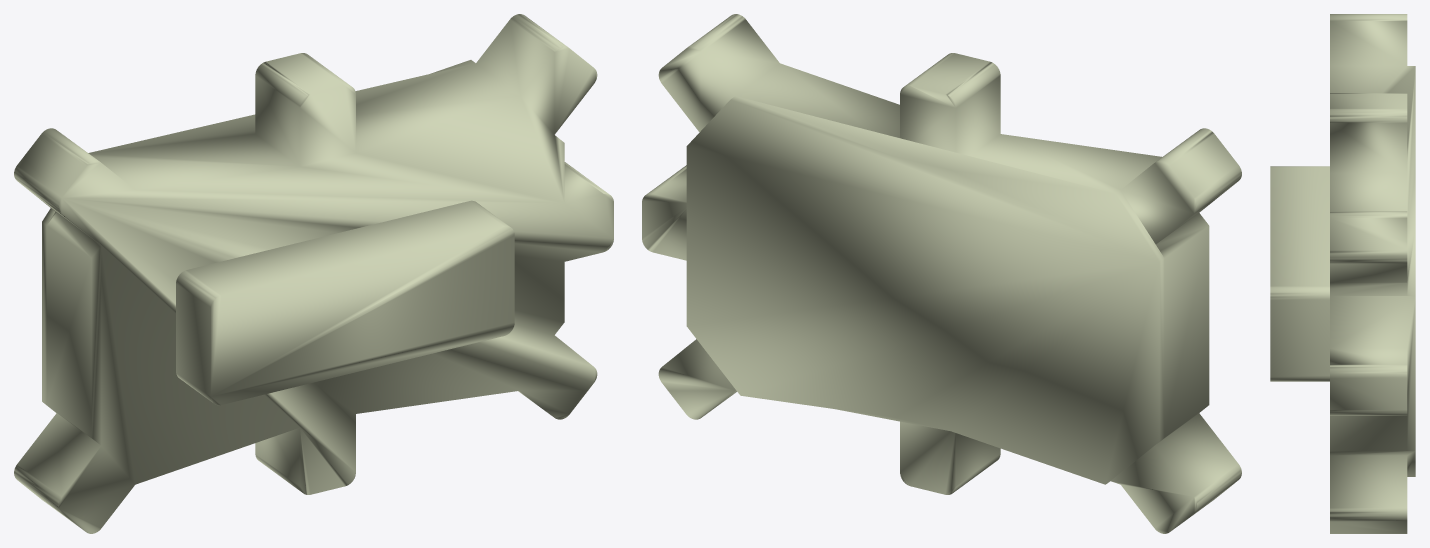
The model's file is thorax_simpler.dae.
The picture shows the model from 3 angles, left to right: view 1: azimuth 30°, elevation 25°; view 2: azimuth 150°, elevation 25°; view 3: azimuth 270°, elevation 25°; orthographic projection. The views are drawn at different scales.
Visible parts, largest first — view 1: STL object-0; view 2: STL object-0; view 3: STL object-0.
Boxes of the visible parts, x1,y1,x2,y2 form: STL object-0: [14, 14, 613, 533]; STL object-0: [642, 14, 1241, 533]; STL object-0: [1270, 14, 1415, 533].
Size of the model in its own units: 258 by 178 by 68.
